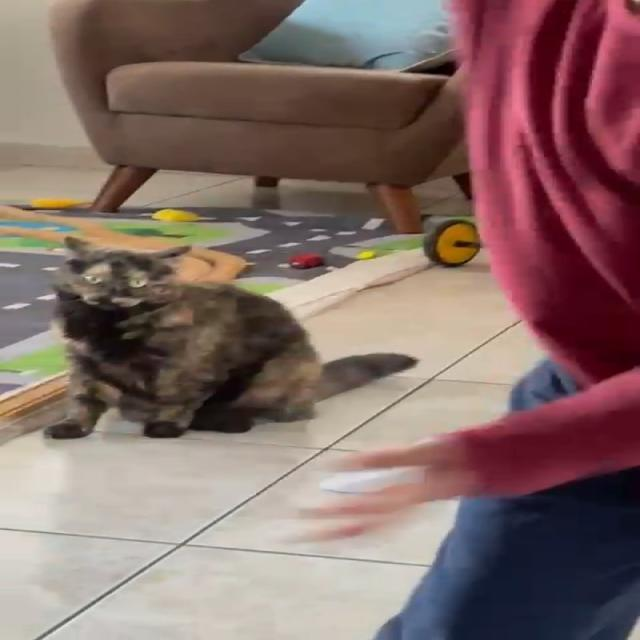authorized: (44, 235, 419, 439)
